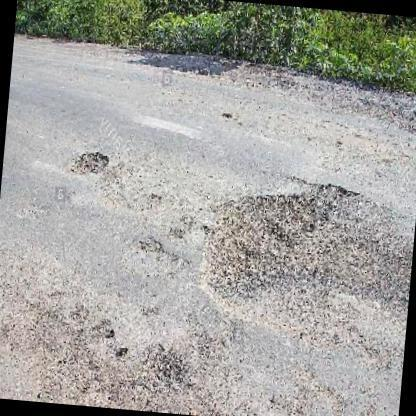pothole: (198, 178, 416, 364), (30, 291, 216, 416), (126, 233, 188, 280), (96, 182, 178, 217), (65, 146, 112, 180)
